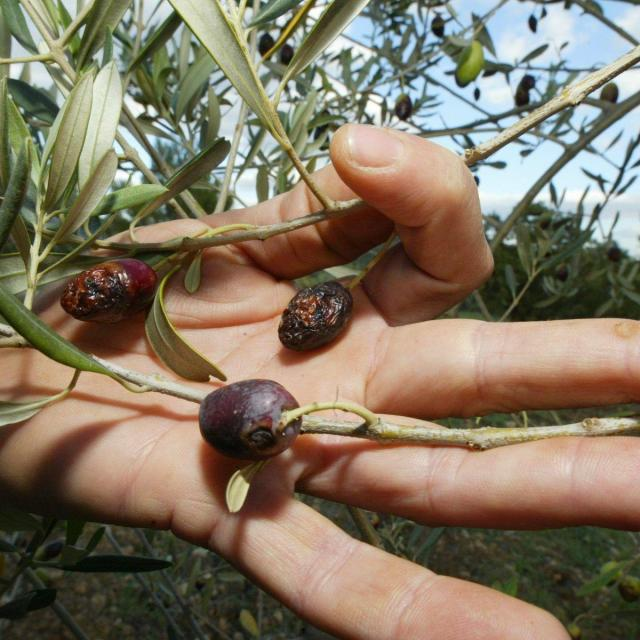Olive Fruit Fly: (199, 379, 301, 461), (60, 258, 158, 322), (278, 281, 353, 351)
